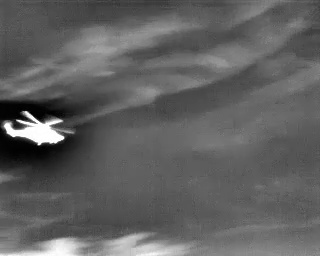HELICOPTER: (0, 106, 80, 153)
